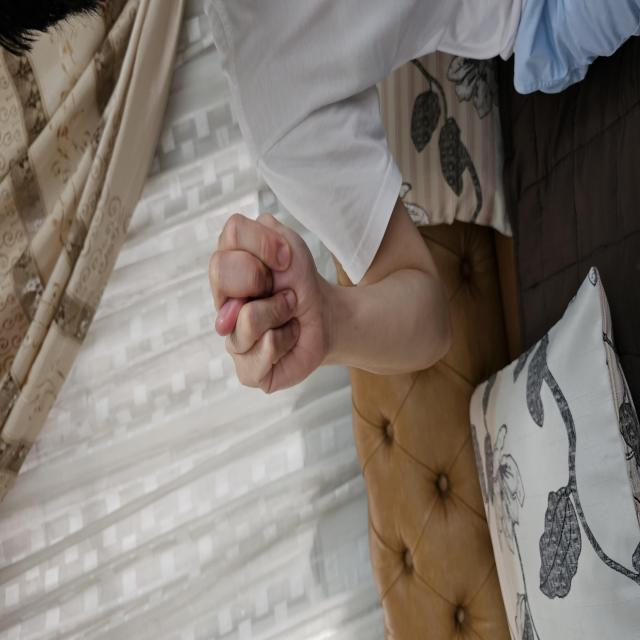N: (175, 199, 364, 423)
